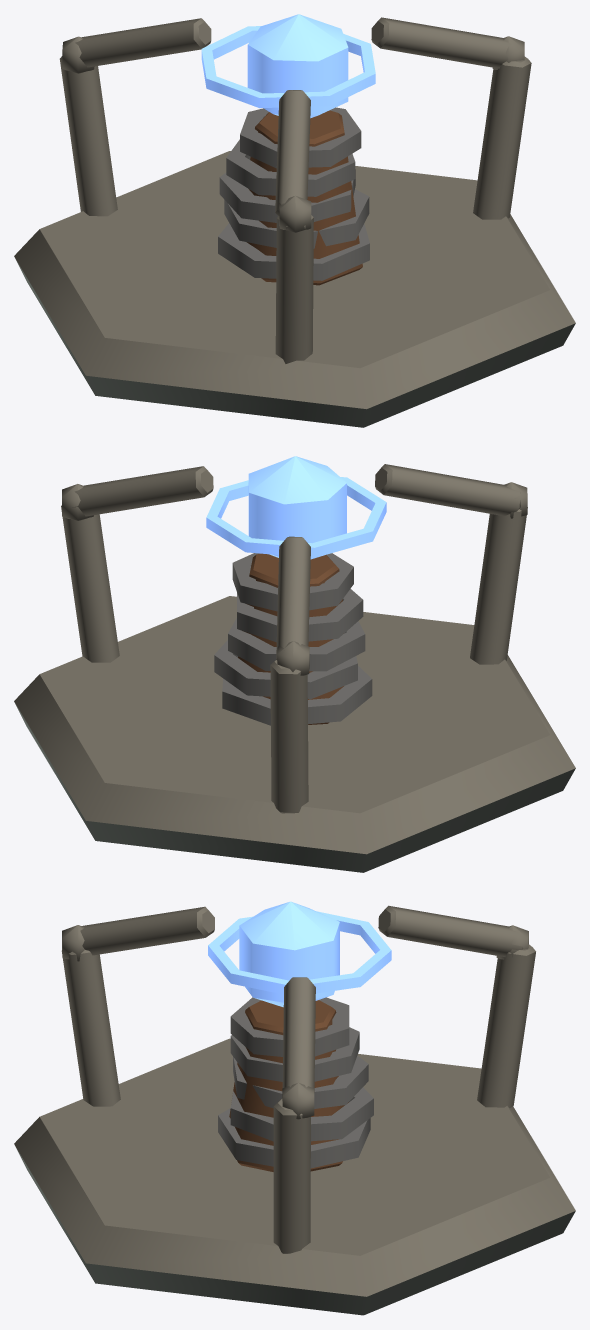
Rendered from R4D_EMPTrap_LOD1.fbx.
3 views of the same model, one above another, from view 1: azimuth 30°, elevation 25°; view 2: azimuth 150°, elevation 25°; view 3: azimuth 270°, elevation 25° (orthographic).
Parts seen in each view (by area): view 1: R4D_EMPTrap_LOD1; view 2: R4D_EMPTrap_LOD1; view 3: R4D_EMPTrap_LOD1.
Boxes of the visible parts, box(x1,y1,x2,y2) form: R4D_EMPTrap_LOD1: box(14, 14, 575, 427); R4D_EMPTrap_LOD1: box(14, 456, 575, 872); R4D_EMPTrap_LOD1: box(14, 901, 575, 1315).
Bounding box in the file's own units: 0.4265 × 0.25 × 0.4235.
